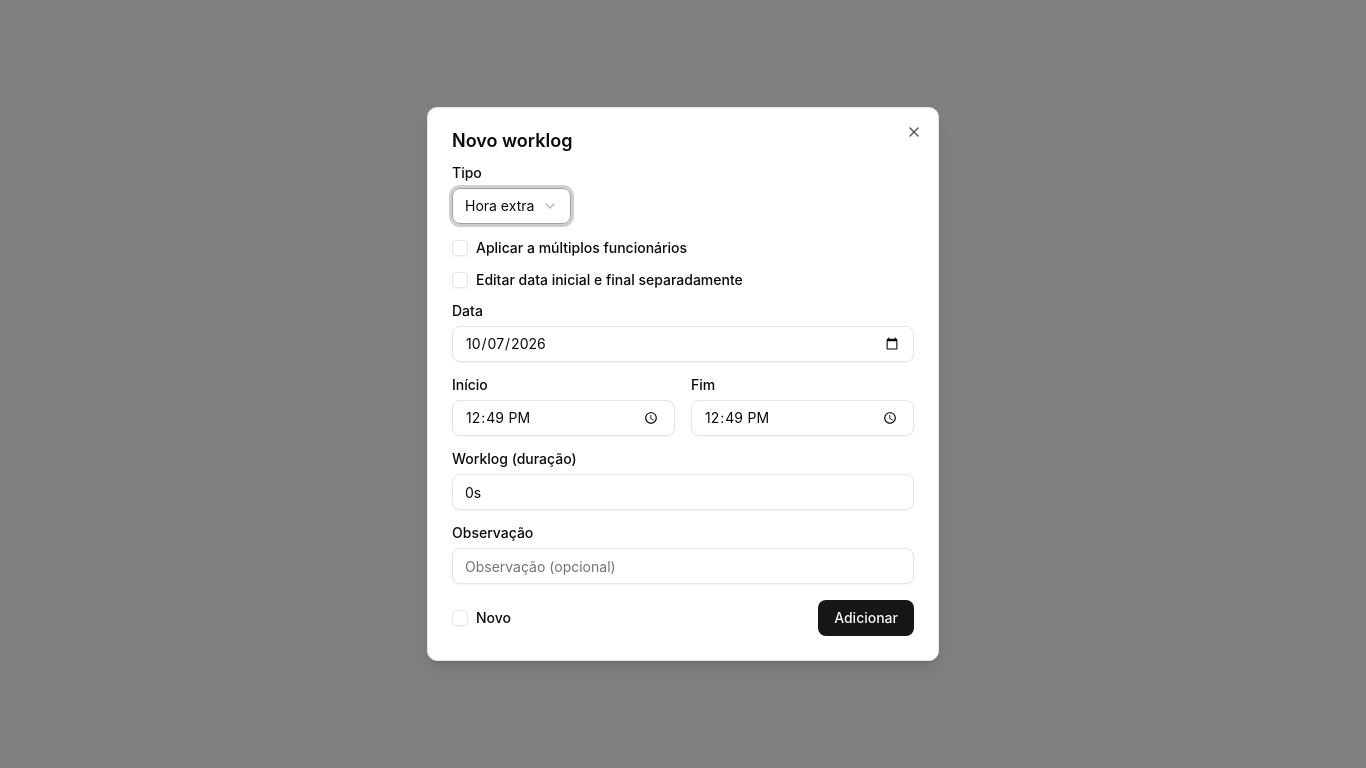
Test: WorkLogFormModal › advanced mode (datetime-local inputs) › does not change the start date input when the duration text field changes
Click the 2nd checkbox named "editar data inicial e final separadamente": point(460, 280) [452, 272, 468, 288]
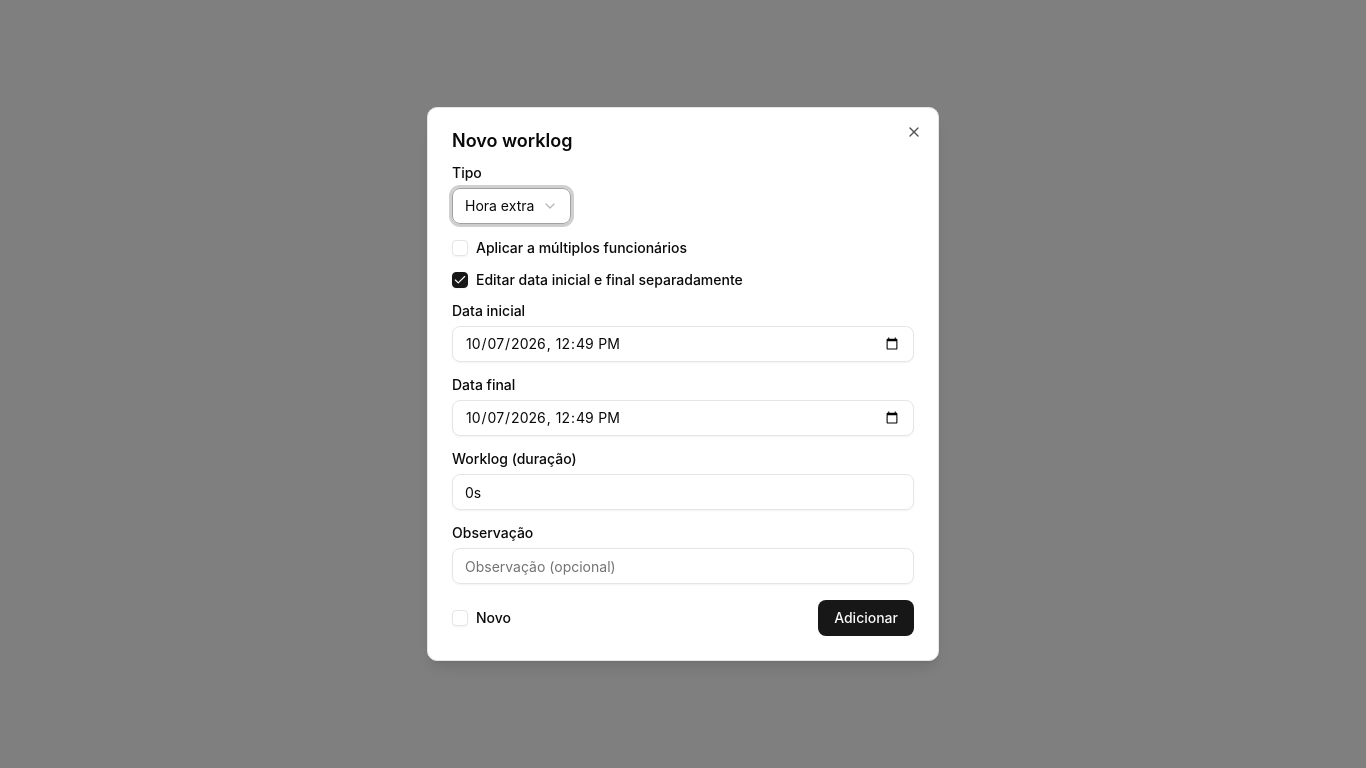
Replace the text in the 1st field with "2026-01-01T08:00": point(683, 344) [452, 326, 914, 362]
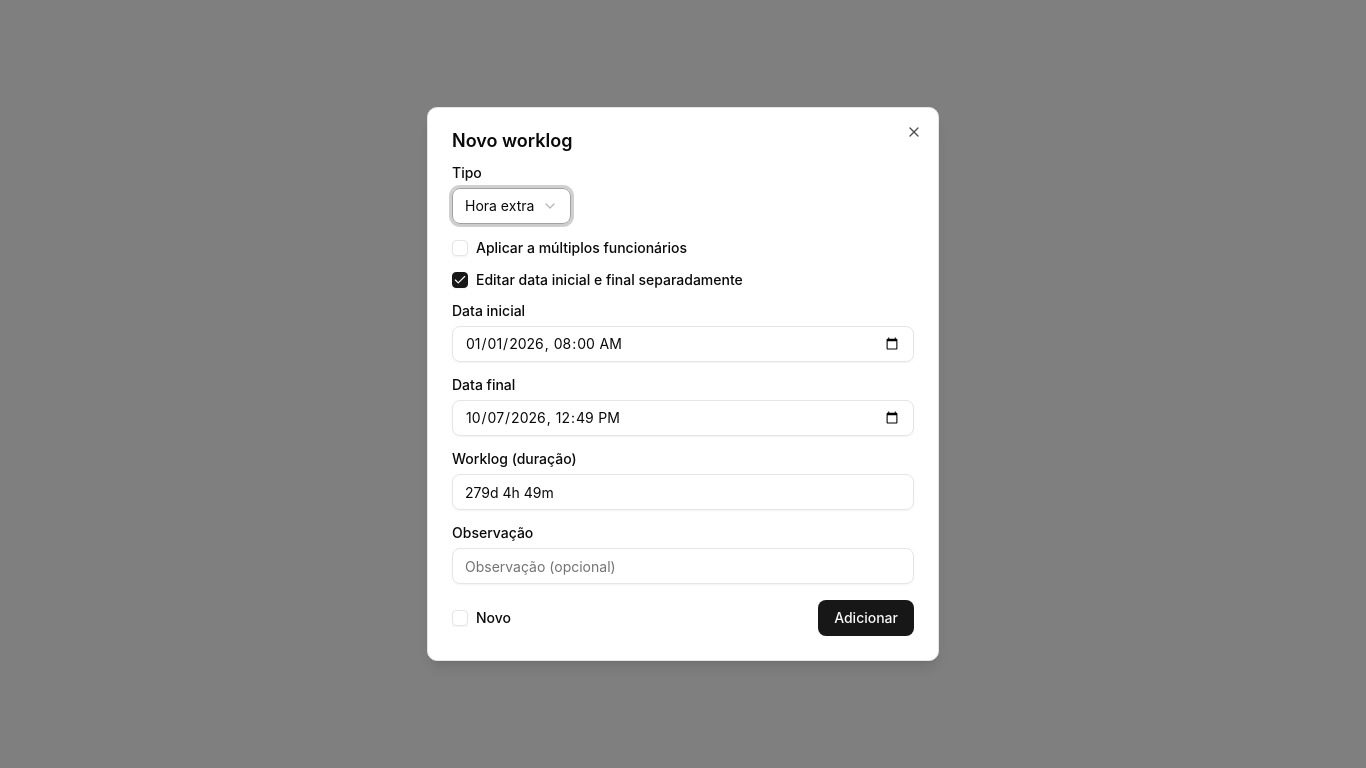
Replace the text in the field below "Data final" with "2026-01-01T08:00": point(683, 418) [452, 400, 914, 436]
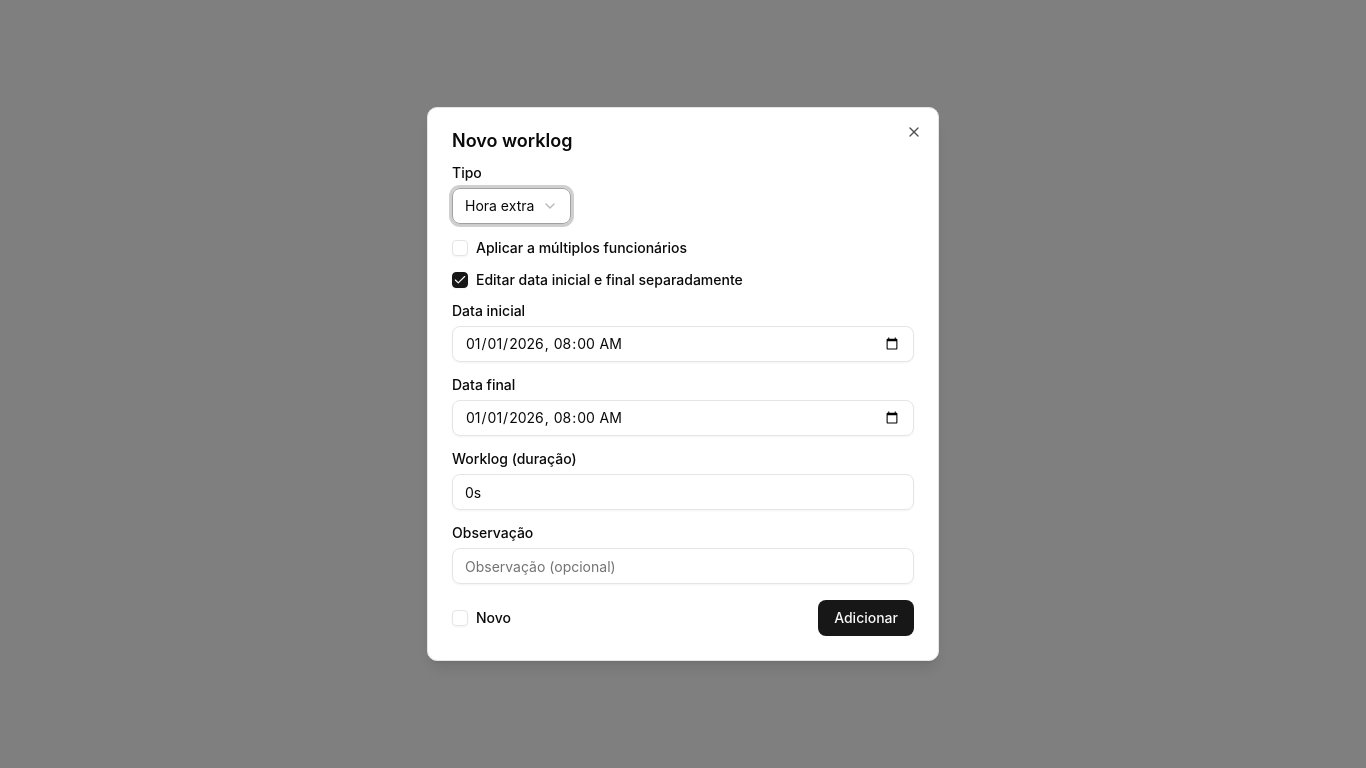
Replace the text in the field with placeholder "Ex.: 1h 30m" below "Worklog (duração)" with "30m": point(683, 492) [452, 474, 914, 510]
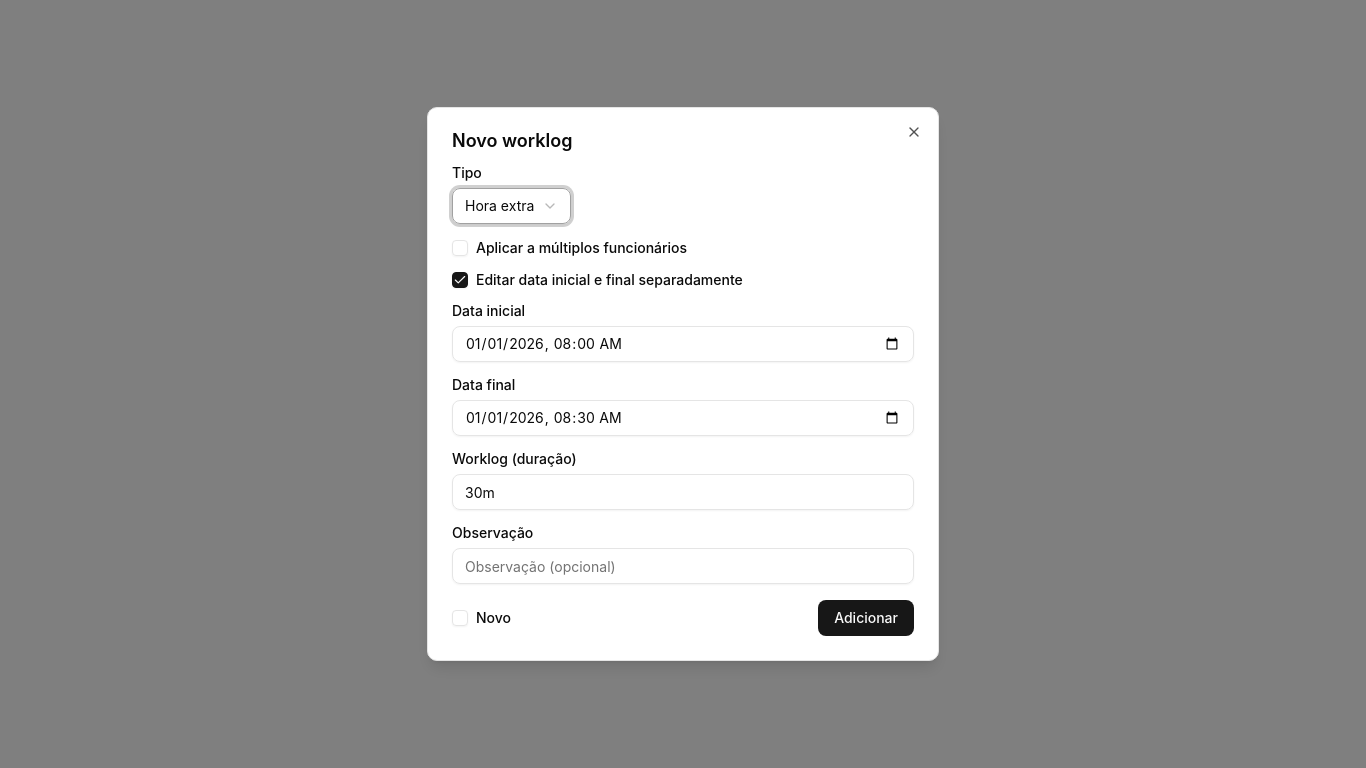
Expected: the field below "Data final" holds "2026-01-01T08:30", [452, 400, 914, 436]
